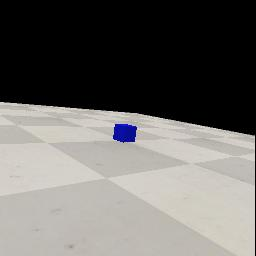box: (113, 124, 137, 143)
